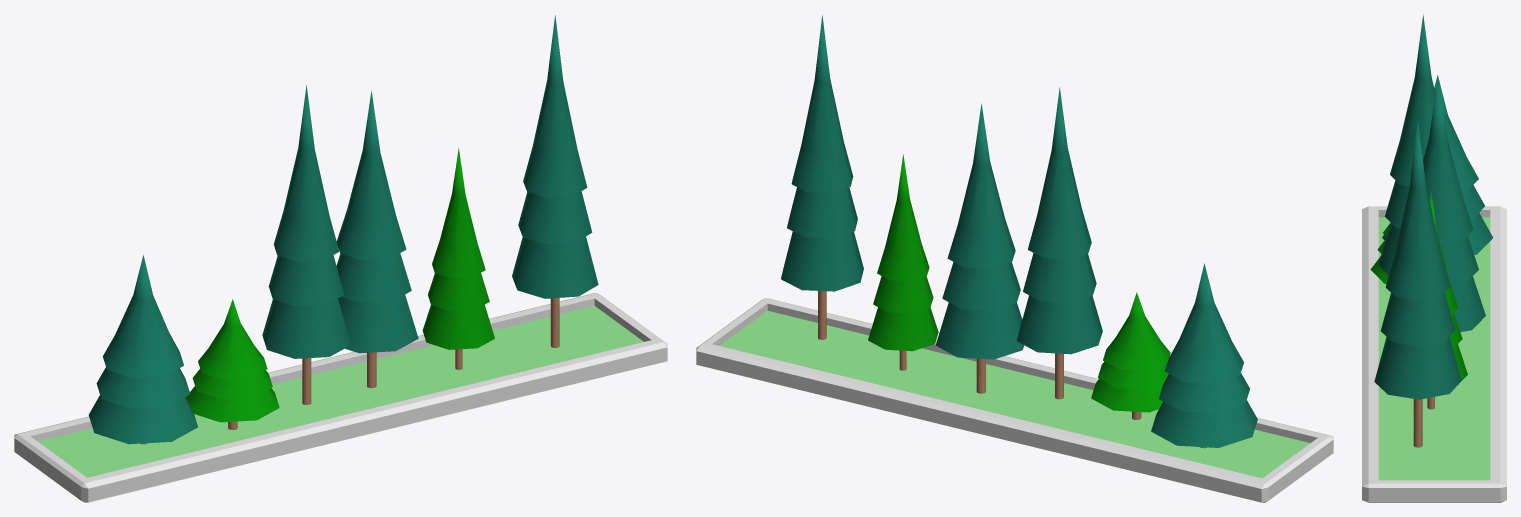
Rendered from Trees.fbx.
3 views of the same model, side by side, from view 1: azimuth 30°, elevation 25°; view 2: azimuth 150°, elevation 25°; view 3: azimuth 270°, elevation 25° (orthographic). The views are drawn at different scales.
Parts seen in each view (by area): view 1: Cube_7, Firtree_4, Firtree_2, Firtree_1, Firtree_47, Firtree, Firtree_3; view 2: Cube_7, Firtree_1, Firtree_4, Firtree_2, Firtree_47, Firtree, Firtree_3; view 3: Cube_7, Firtree_4, Firtree_1, Firtree_2, Firtree_47, Firtree, Firtree_3.
Boxes of the visible parts, x1,y1,x2,y2 form: Cube_7: [14, 293, 667, 502]; Firtree_4: [512, 15, 598, 347]; Firtree_2: [262, 85, 350, 404]; Firtree_1: [336, 90, 418, 388]; Firtree_47: [88, 255, 197, 444]; Firtree: [422, 147, 494, 369]; Firtree_3: [186, 299, 279, 429]; Cube_7: [696, 298, 1333, 502]; Firtree_1: [935, 103, 1024, 393]; Firtree_4: [781, 15, 863, 339]; Firtree_2: [1016, 87, 1102, 399]; Firtree_47: [1151, 263, 1257, 448]; Firtree: [868, 154, 938, 370]; Firtree_3: [1091, 292, 1170, 419]; Cube_7: [1362, 206, 1506, 502]; Firtree_4: [1374, 121, 1461, 447]; Firtree_1: [1423, 77, 1485, 332]; Firtree_2: [1378, 14, 1435, 275]; Firtree_47: [1382, 75, 1493, 254]; Firtree: [1427, 191, 1467, 409]; Firtree_3: [1370, 223, 1390, 283].
Size of the model in its own units: 557 by 324 by 121.
